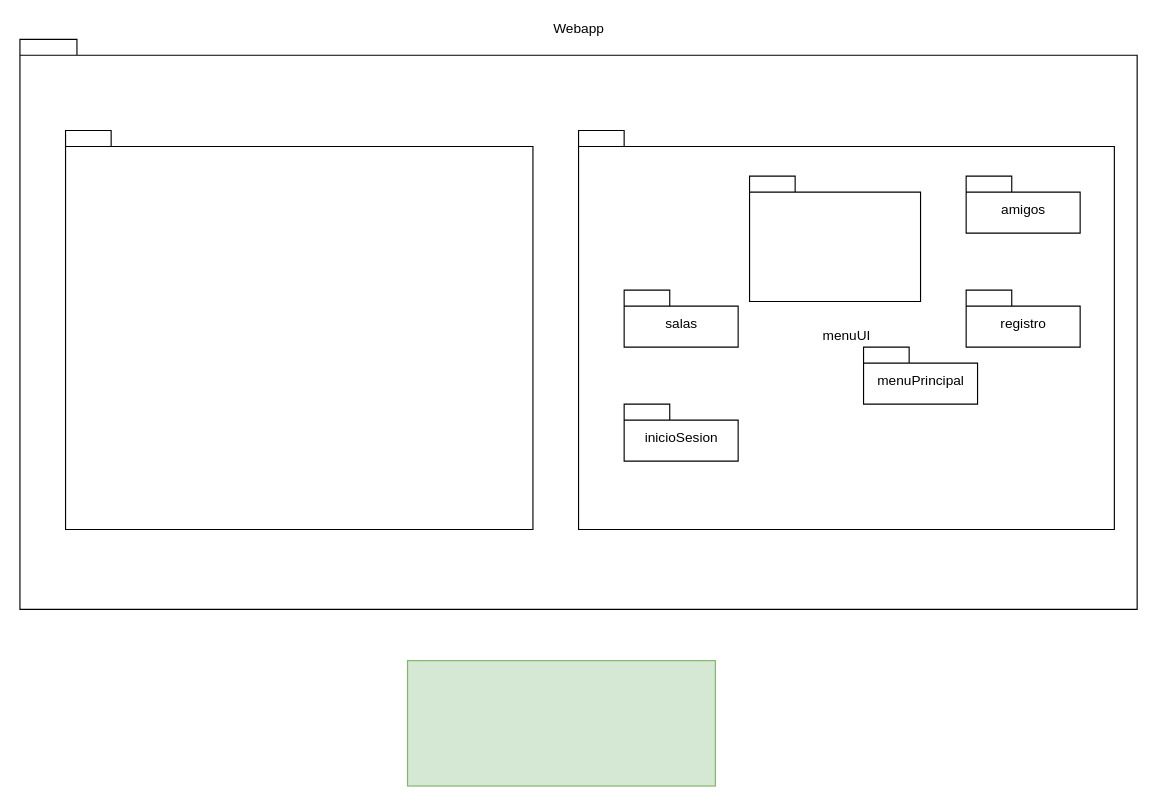
This 1157x806 diagram has some shape labels left out. Here are the shapes that lost their labels. From the top down, the centre of each, then its label:
At [834,238]: "notificaciones".
At [298,329]: "partidaUI".
At [560,722]: "WORK IN PROGRESS".
